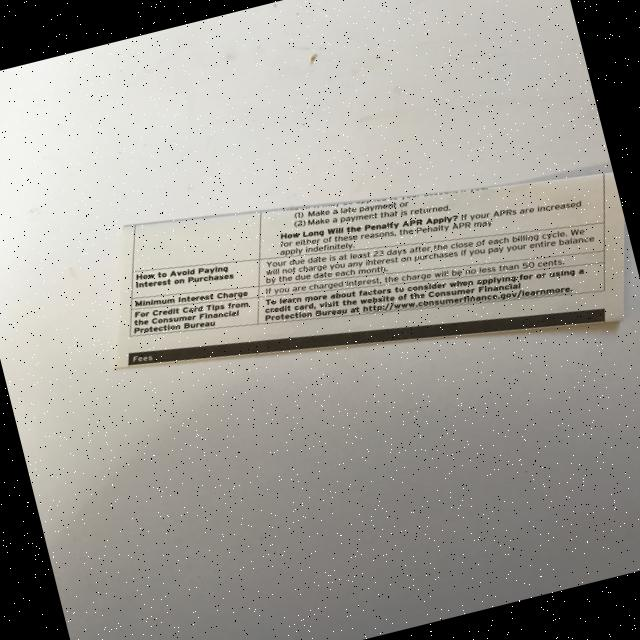paper: (0, 0, 640, 640), (78, 105, 640, 442)
